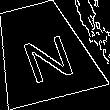N_N: (11, 22, 75, 82)
